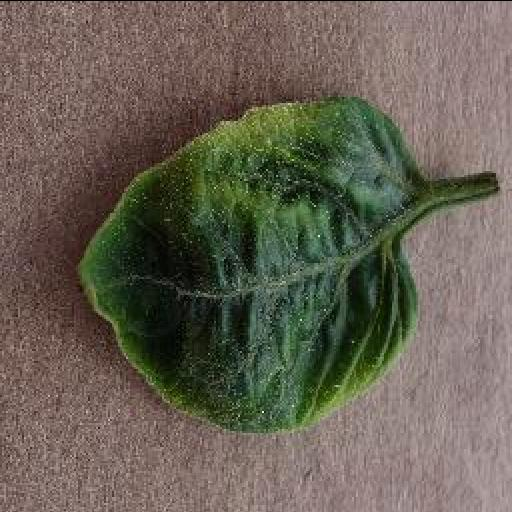disease_tomato: (73, 94, 419, 434)
